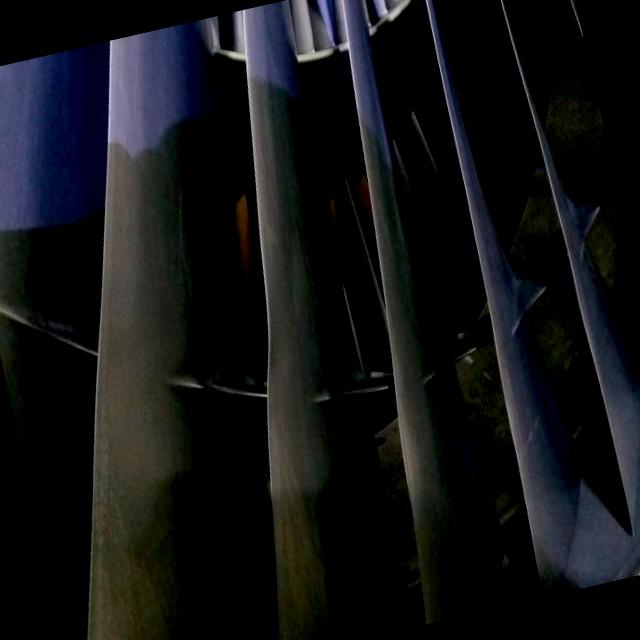dent: (220, 238, 306, 424)
